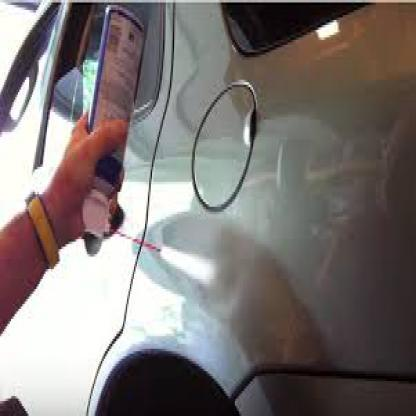dent: (144, 206, 222, 308)
